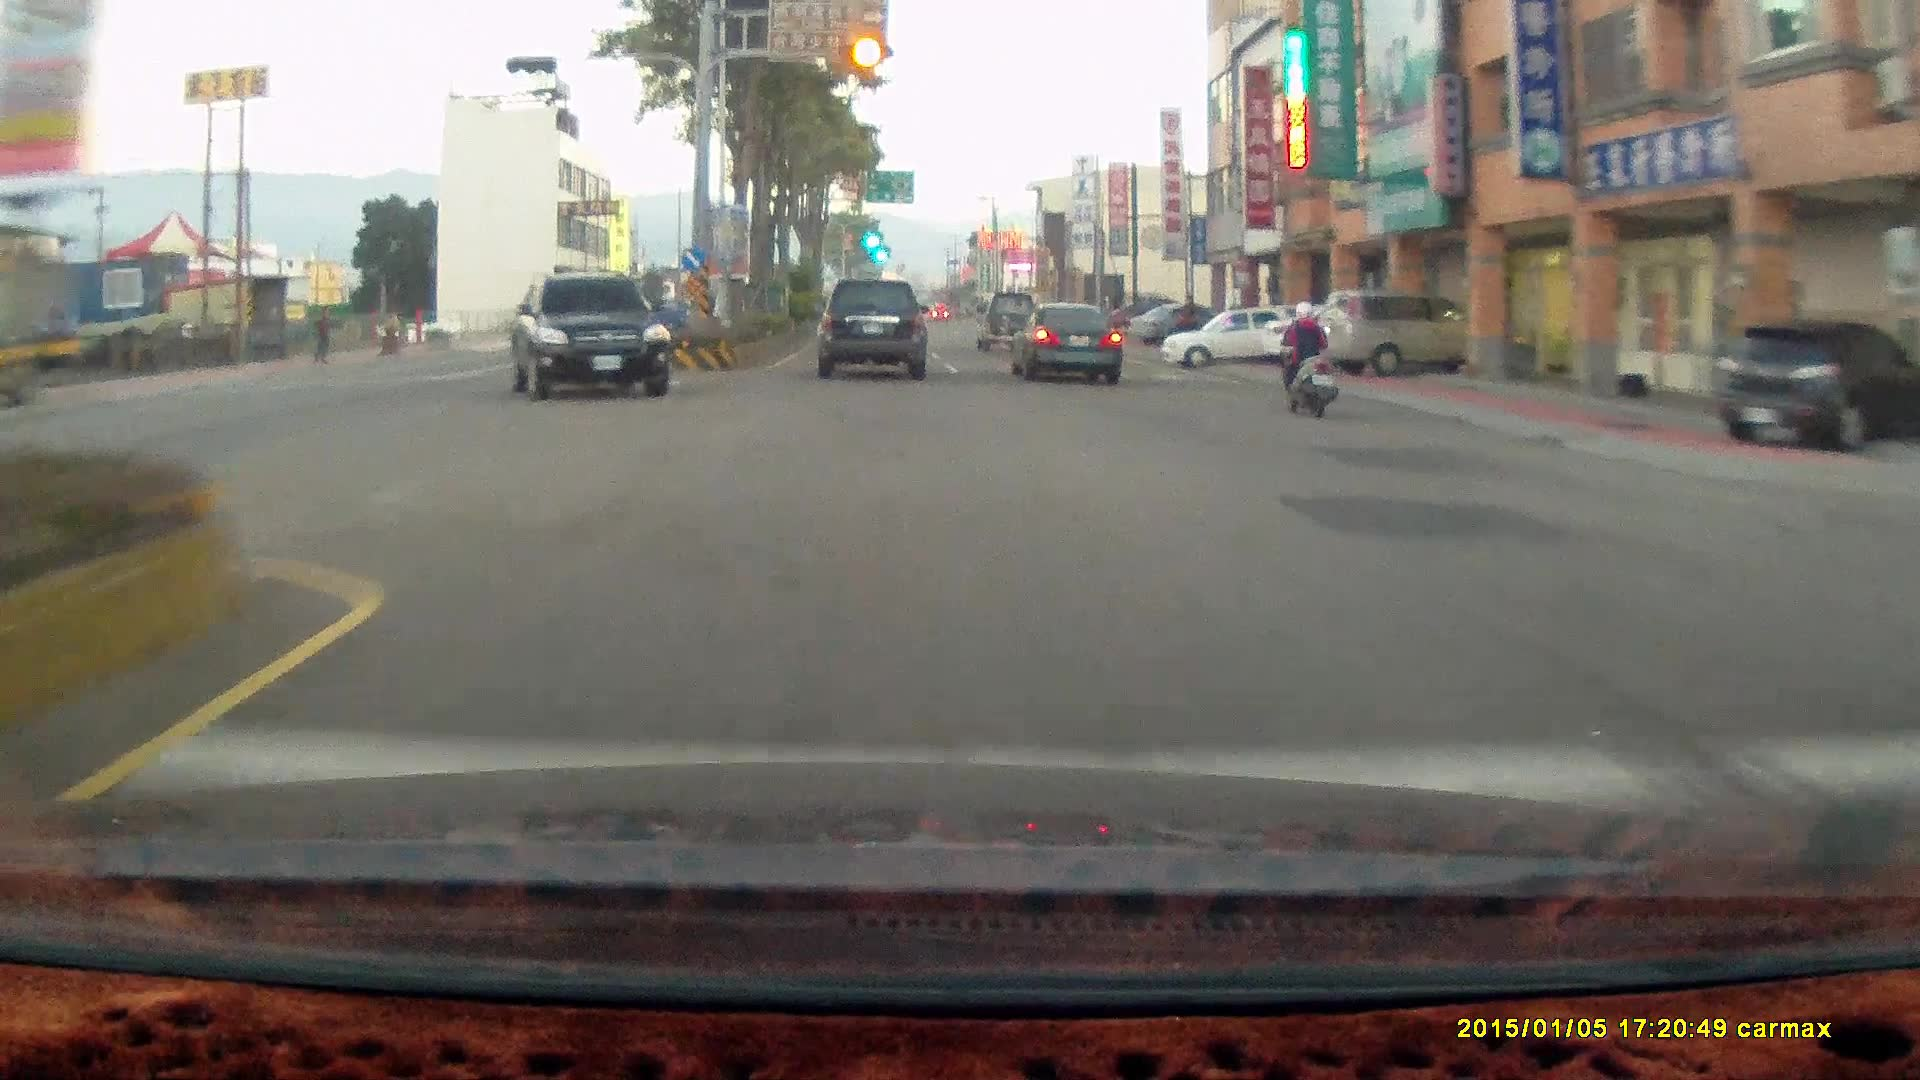pedestrian: (1175, 291, 1198, 348), (308, 307, 332, 359)
rider: (1266, 292, 1347, 422), (1274, 297, 1336, 415)
vehicle: (1713, 318, 1918, 454), (1712, 318, 1917, 451), (507, 269, 669, 397), (508, 273, 671, 400), (1319, 288, 1491, 375), (1316, 292, 1480, 379), (1266, 296, 1432, 368), (823, 274, 933, 378), (815, 276, 926, 380), (1164, 304, 1315, 374), (1008, 301, 1131, 383), (1158, 302, 1309, 366), (1007, 301, 1121, 384), (1130, 301, 1224, 344), (974, 292, 1042, 350)
